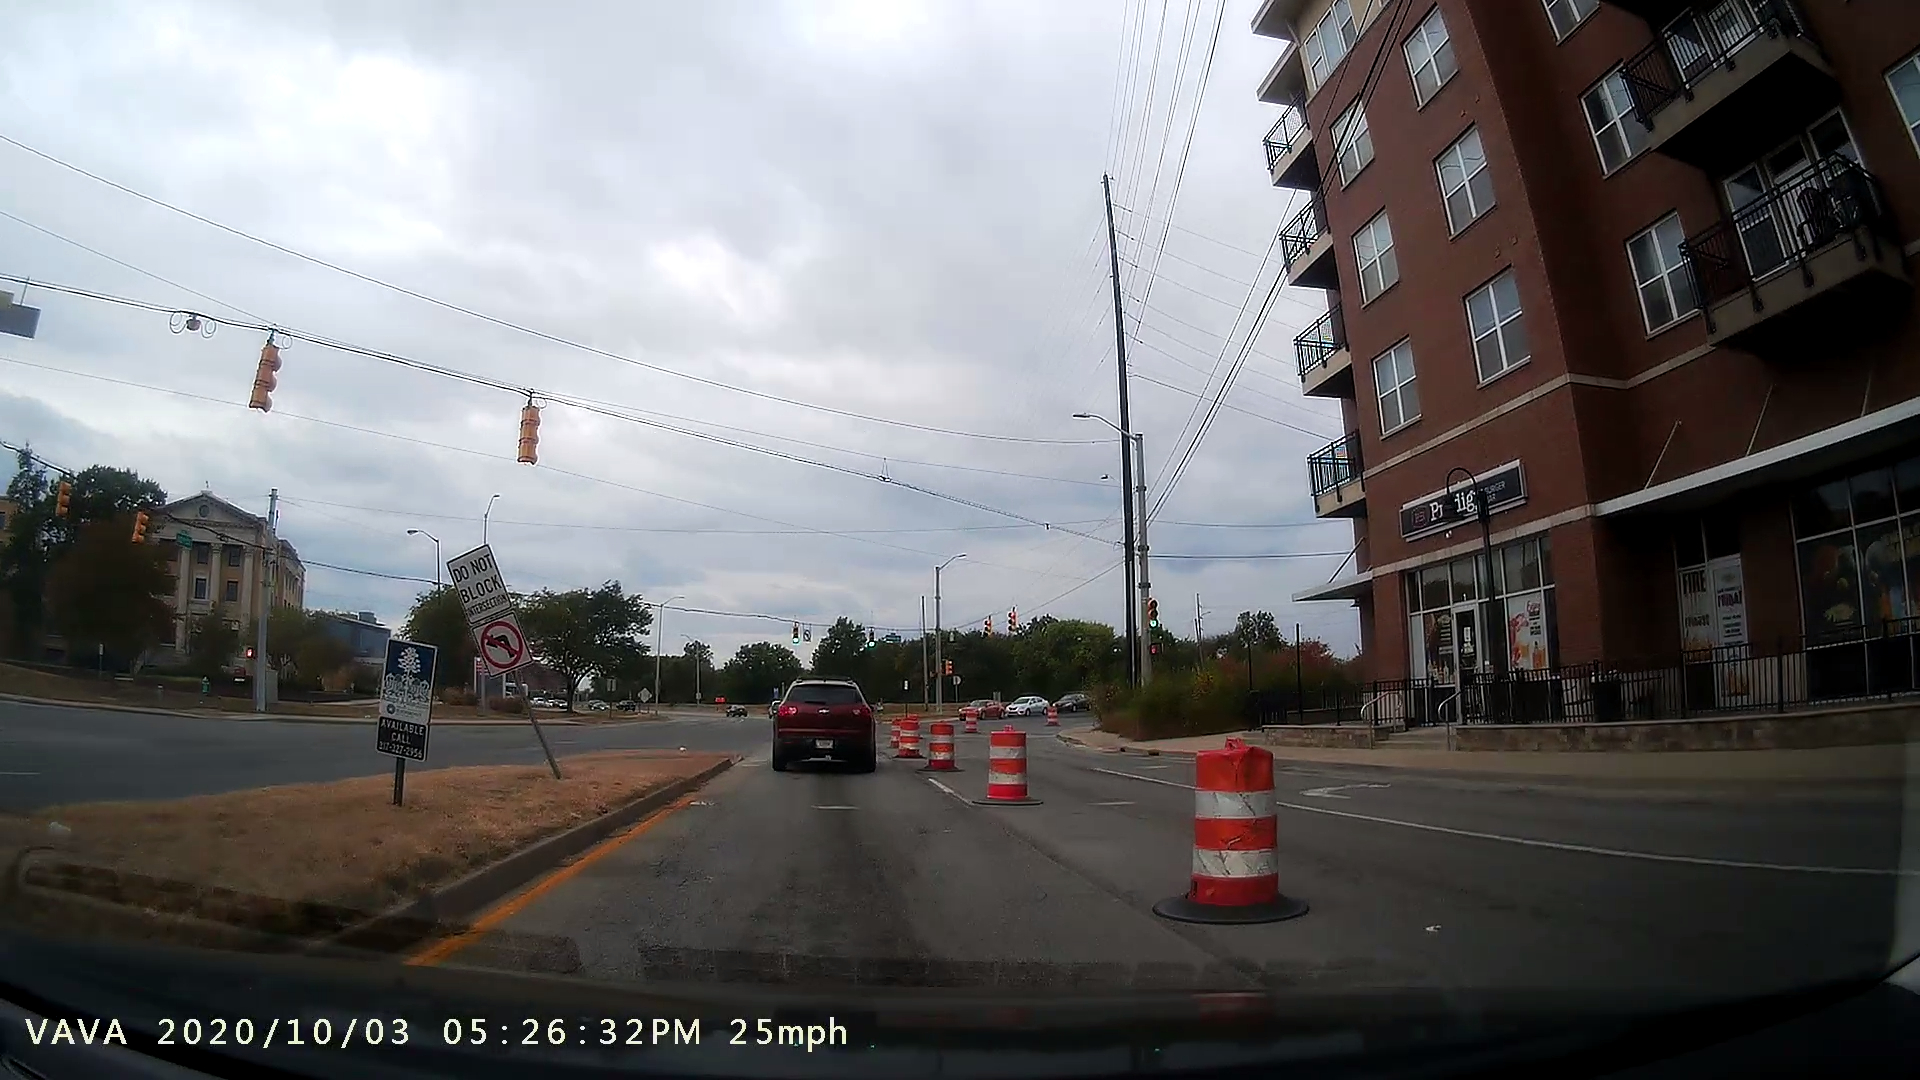const_barrel: (1146, 720, 1328, 936), (969, 719, 1048, 814), (922, 705, 963, 781)
